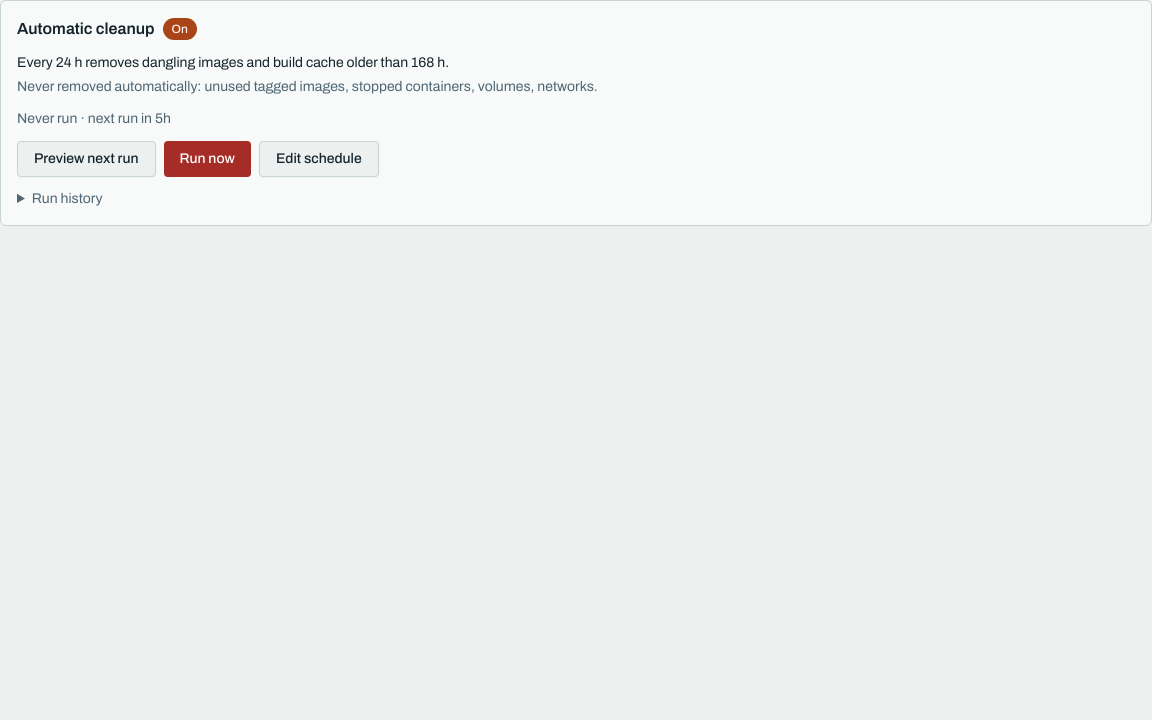
AutoCleanupPanel: Preview next run › renders an unused tagged image by its tag
Click the button "Preview next run" at point(86, 159), box 17,141 -> 156,177
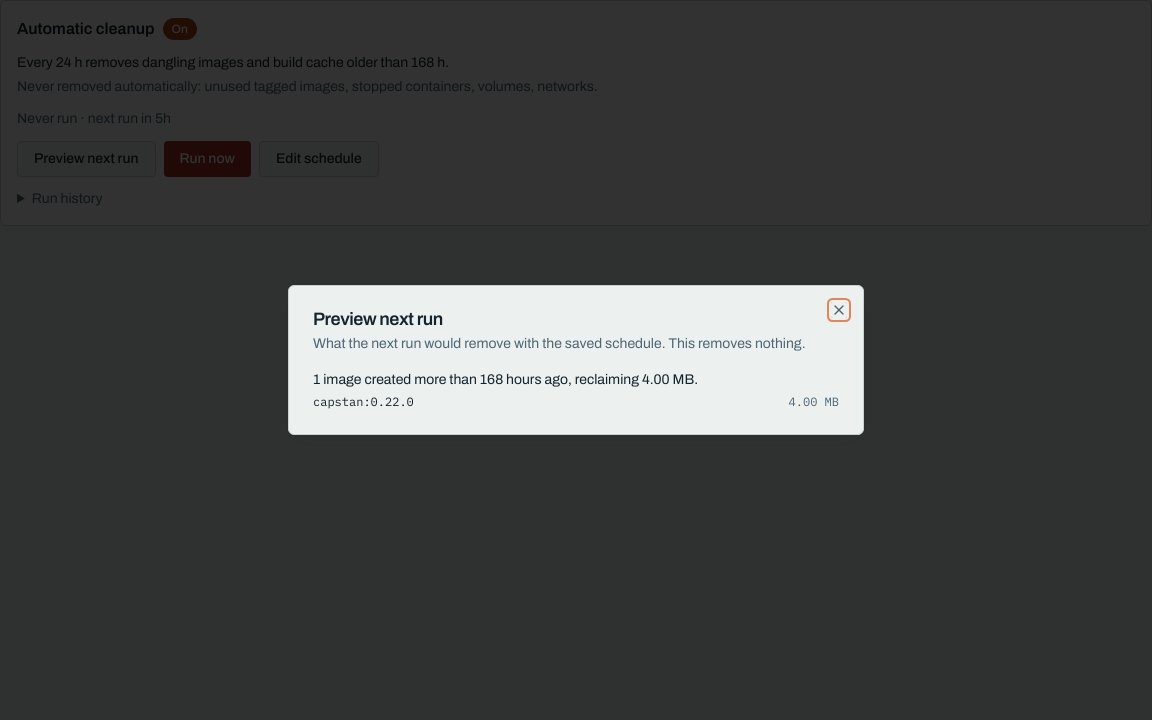
Result: the text "capstan:0.22.0" is shown at 313,394 -> 414,410
